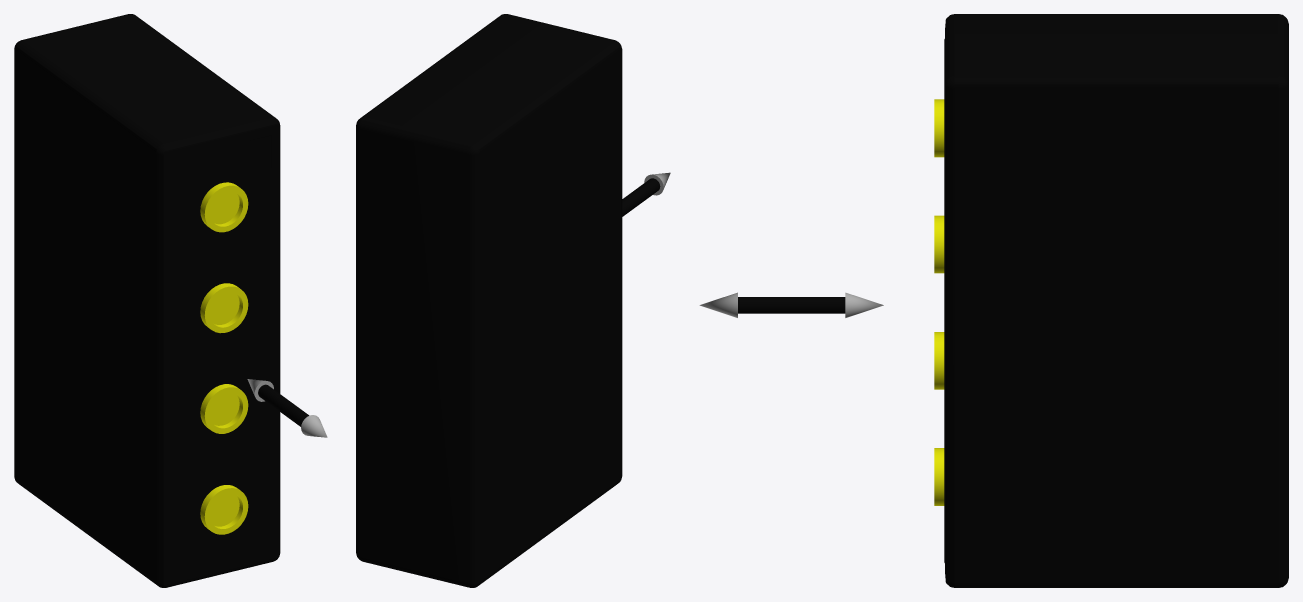
The model's file is Level5.fbx.
3 renders of one model, left to right at view 1: azimuth 30°, elevation 25°; view 2: azimuth 150°, elevation 25°; view 3: azimuth 270°, elevation 25°, orthographic. The views are drawn at different scales.
Parts seen in each view (by area): view 1: pCube1, pCylinder7, pCylinder9, pCylinder11, pCylinder10, pCylinder8, pCone24; view 2: pCube1, pCylinder8; view 3: pCube1, pCylinder8.
Boxes of the visible parts, x1,y1,x2,y2 form: pCube1: (14,14,280,587); pCylinder7: (200,182,248,232); pCylinder9: (200,283,248,333); pCylinder11: (200,485,248,534); pCylinder10: (200,384,248,433); pCylinder8: (258,384,309,426); pCone24: (301,415,327,437); pCube1: (356,14,622,587); pCylinder8: (622,178,660,216); pCube1: (944,14,1288,587); pCylinder8: (738,297,845,313).
Bounding box in the file's own units: 1.73 × 5.96 × 6.23.
